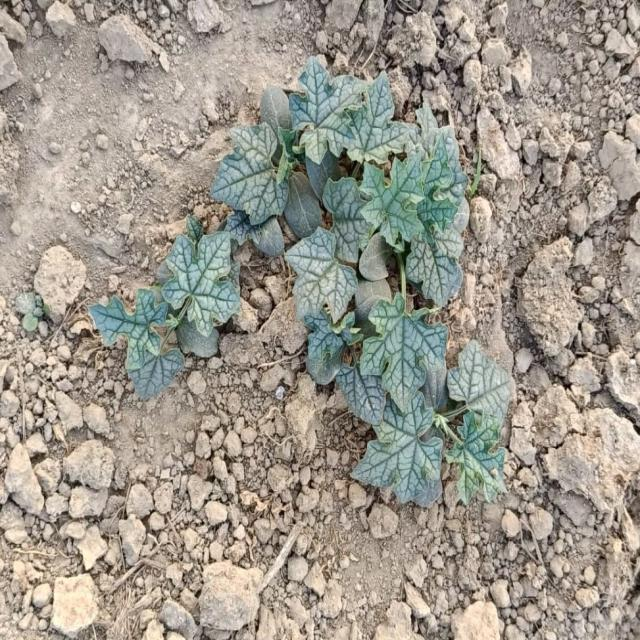plant: (90, 57, 510, 506)
